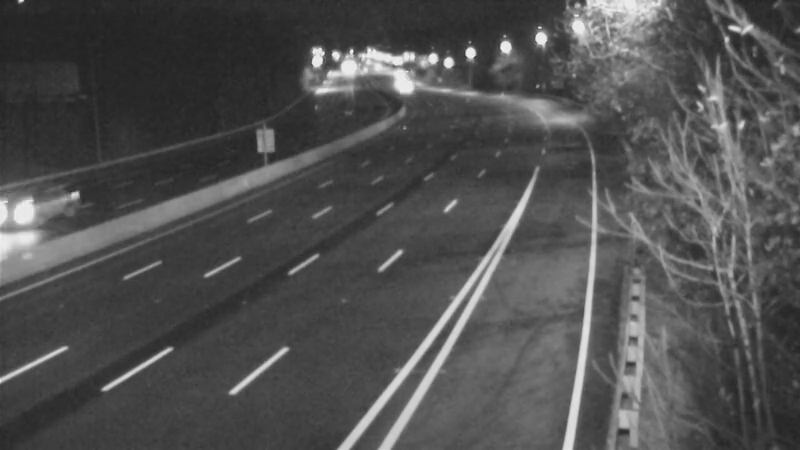vehicle: (1, 176, 74, 256), (378, 60, 428, 110)
